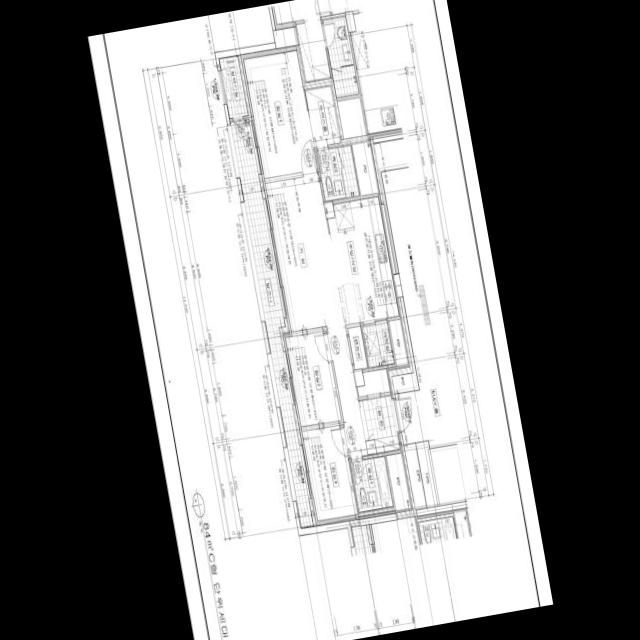background: (87, 0, 553, 640)
space_balconi: (230, 118, 313, 528)
space_bedroom: (240, 45, 317, 178), (300, 424, 358, 525), (282, 331, 340, 427)
space_dressroom: (304, 85, 340, 147)
space_elevator_hall: (373, 138, 466, 505)
space_front: (357, 368, 401, 455)
space_kitchen: (327, 195, 400, 324)
space_living_room: (263, 174, 367, 458)
space_other: (391, 296, 418, 393), (361, 322, 394, 368), (403, 443, 426, 509), (386, 453, 411, 512), (351, 141, 378, 195), (415, 441, 437, 507), (388, 319, 409, 368), (347, 326, 367, 369)
space_outdoor_room: (218, 55, 248, 118)
space_toilet: (349, 455, 393, 513), (315, 144, 359, 201)
